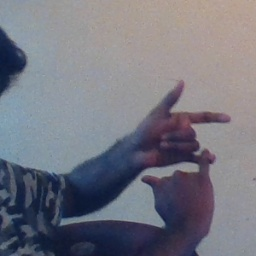S: (127, 78, 237, 211)
